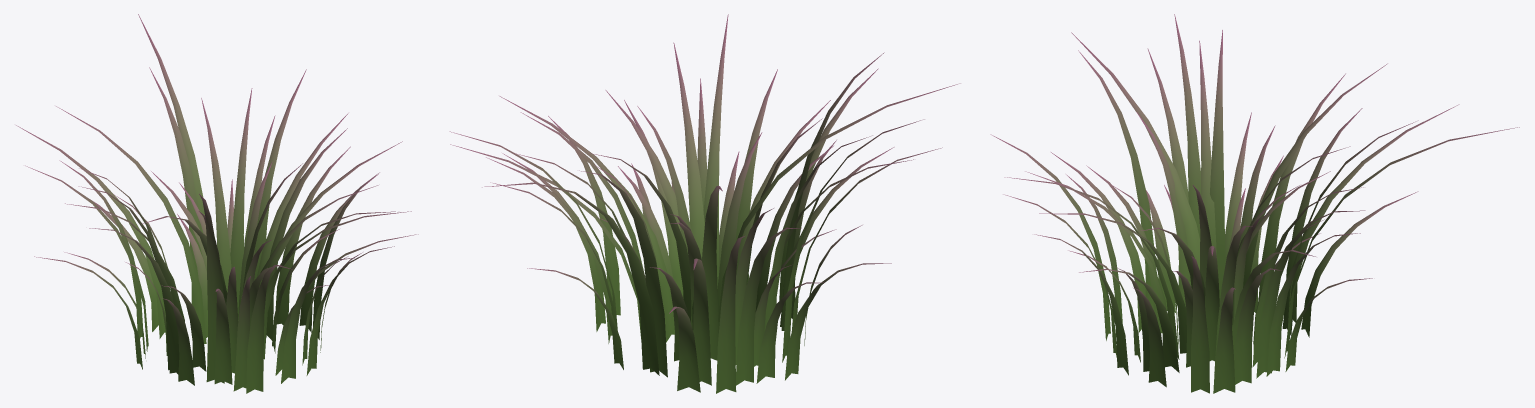
Rendered from Rose Plume Grass.glb.
3 renders of one model, left to right at view 1: azimuth 30°, elevation 25°; view 2: azimuth 150°, elevation 25°; view 3: azimuth 270°, elevation 25°, orthographic. The views are drawn at different scales.
Visible parts, largest first — view 1: Rose Plume Grass; view 2: Rose Plume Grass; view 3: Rose Plume Grass.
Boxes of the visible parts, box(x1,y1,x2,y2) form: Rose Plume Grass: box(16, 14, 418, 393); Rose Plume Grass: box(449, 14, 960, 393); Rose Plume Grass: box(990, 14, 1519, 393).
Size of the model in its own units: 1.44 by 0.8859 by 1.7.
